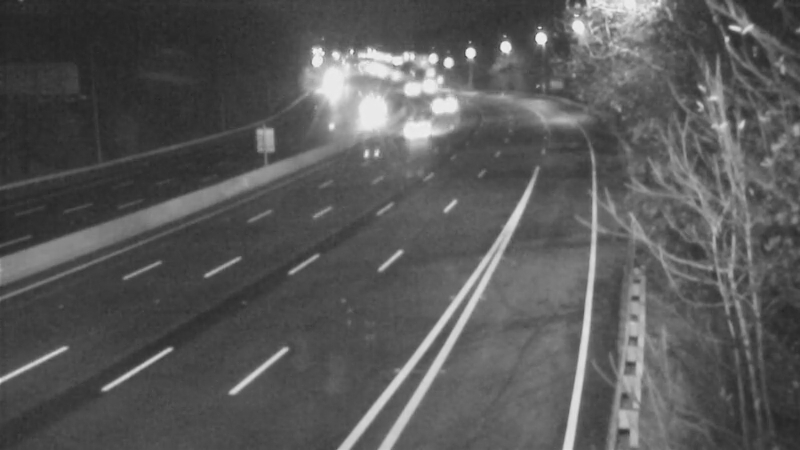vehicle: (410, 58, 460, 108), (385, 64, 435, 114), (422, 78, 472, 128), (391, 108, 441, 158), (349, 90, 399, 140)
